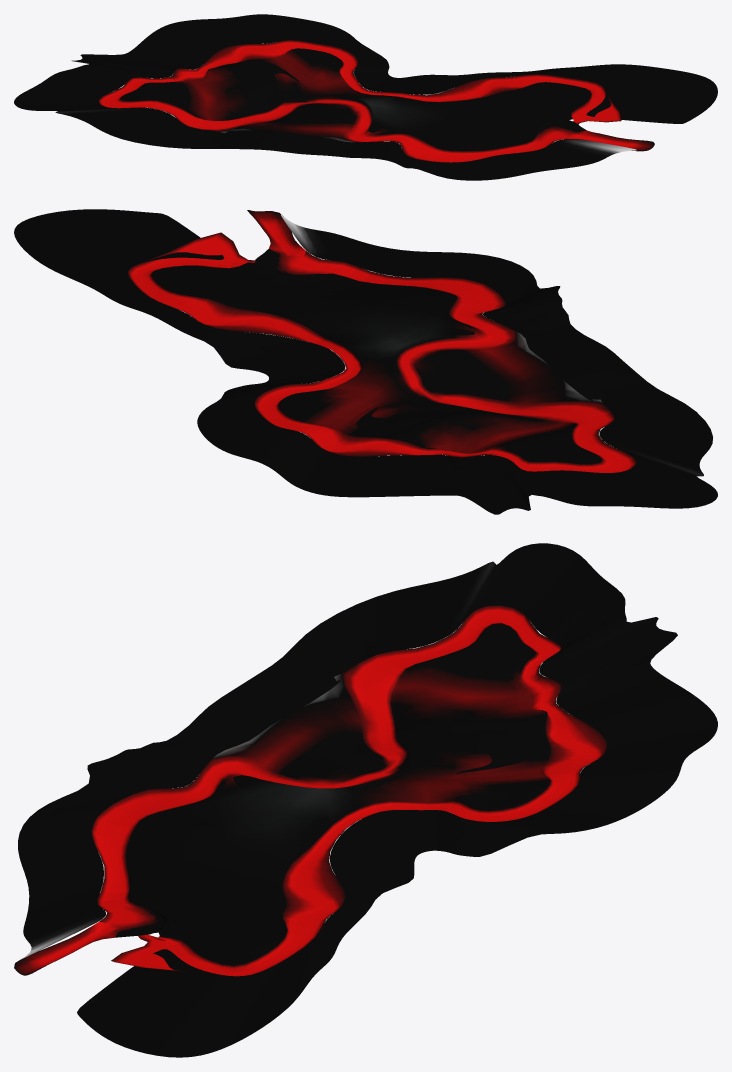
The model's file is 3b tree layer.glb.
3 views of the same model, one above another, from view 1: azimuth 30°, elevation 25°; view 2: azimuth 150°, elevation 25°; view 3: azimuth 270°, elevation 25° (orthographic). The views are drawn at different scales.
Parts seen in each view (by area): view 1: tree parts, MainMap; view 2: tree parts, MainMap; view 3: tree parts, MainMap.
Part boxes in pixels (x1,y1,x2,y2): tree parts: (14,14,717,180); MainMap: (99,40,654,162); tree parts: (14,209,717,514); MainMap: (128,210,635,472); tree parts: (18,543,717,1057); MainMap: (14,605,606,976).
Size of the model in its own units: 701 by 45.7 by 456.
